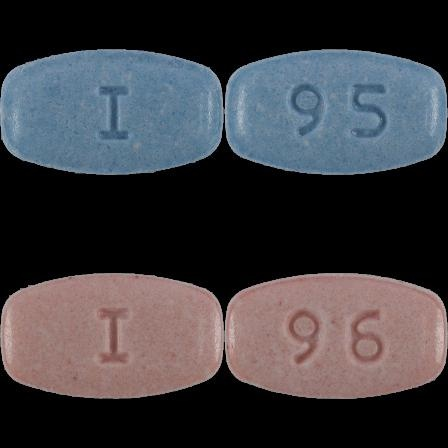31722-820: (0, 0, 224, 224)
